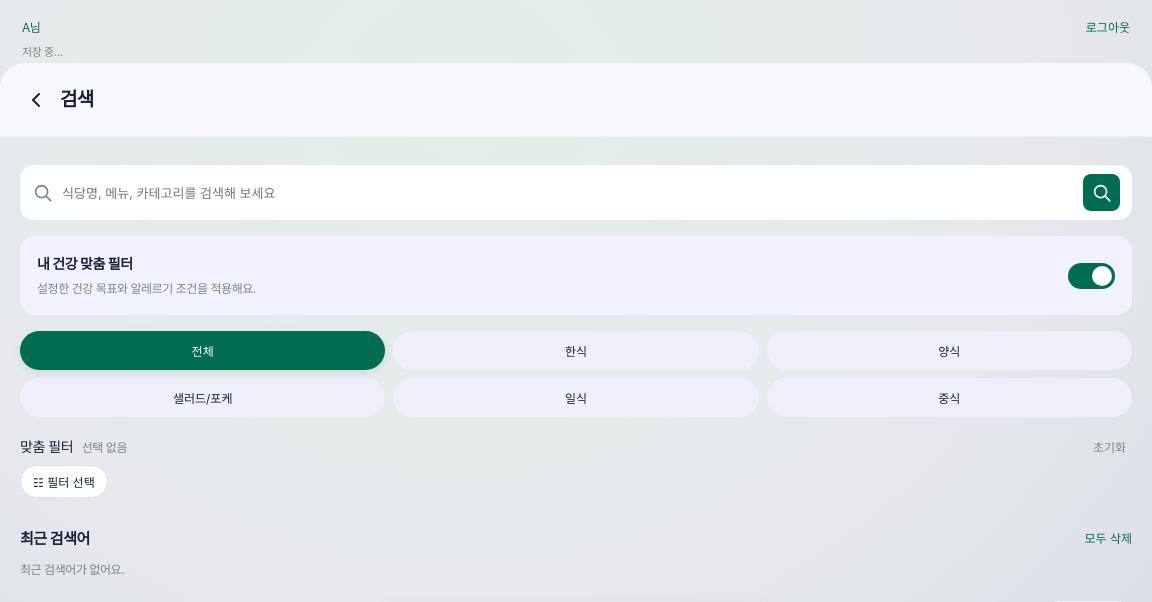
Test: React migration regression coverage › shows only search and matching restaurants and ignores hidden recommendation filters
Expected: the heading "최근 검색어" is shown, x1=20 y1=527 x2=90 y2=548
Expected: the element named "음식 카테고리" is shown, x1=20 y1=331 x2=1132 y2=417
Type "비건데이" into the search field named "식당 검색".
click(568, 192); type("비건데이")  # box x1=62 y1=176 x2=1075 y2=208
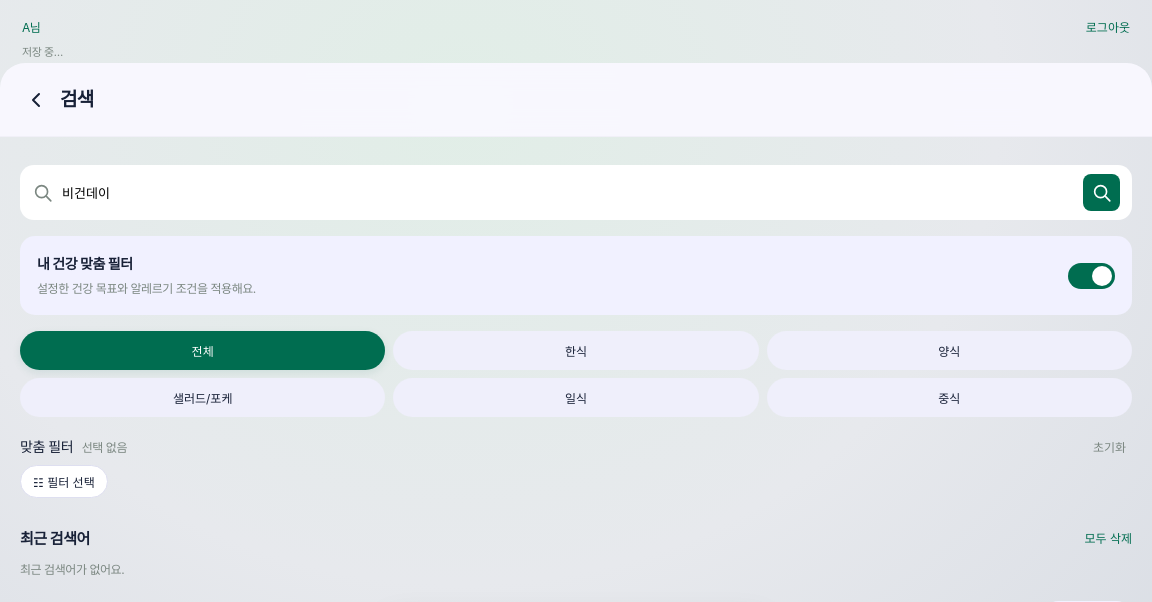
Click the button named "검색 실행".
click(1102, 192)  # box x1=1083 y1=174 x2=1120 y2=211
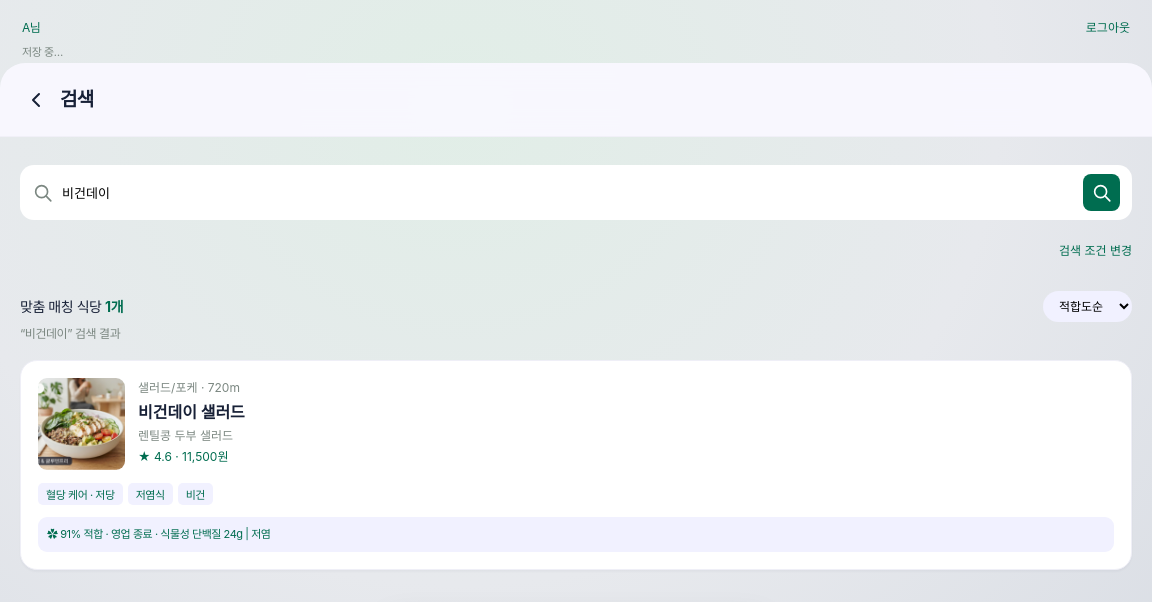
Expected: the text "맞춤 매칭 식당" is shown, x1=20 y1=298 x2=102 y2=315
Expected: the heading "비건데이 샐러드" is shown, x1=138 y1=402 x2=245 y2=422
Expected: the heading "최근 검색어" is gone
Click the button "검색 조건 변경".
click(1092, 250)  # box x1=1051 y1=232 x2=1132 y2=267
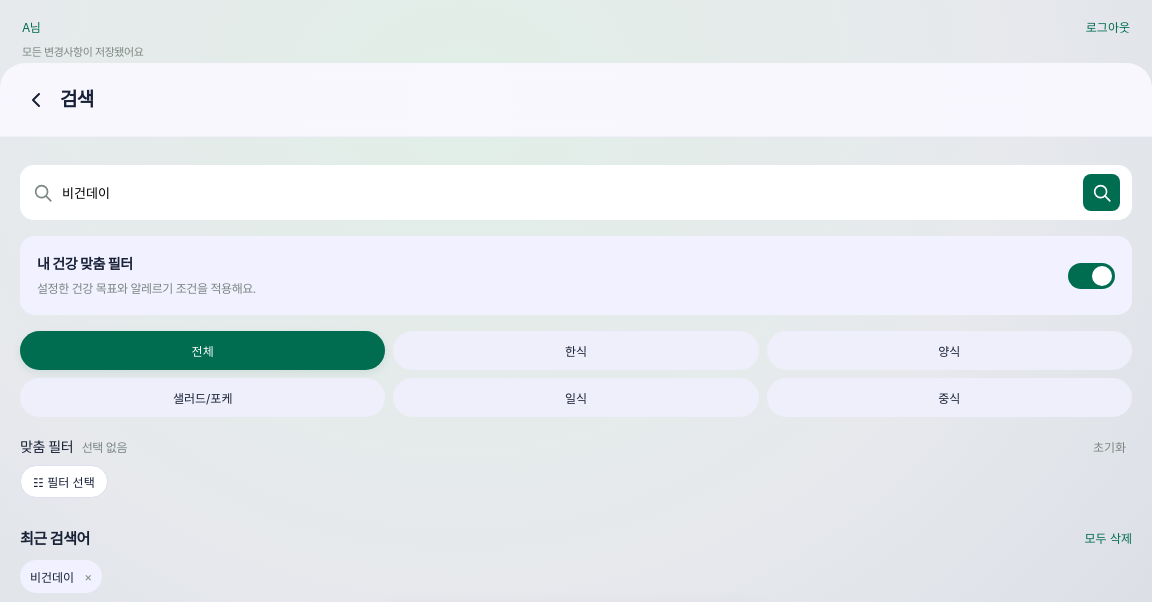
Expected: the heading "최근 검색어" is shown, x1=20 y1=527 x2=90 y2=548
